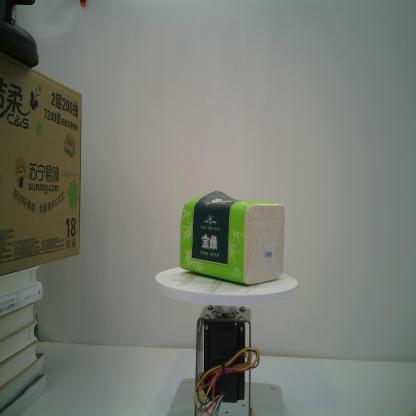Tissue: (178, 188, 285, 287)
